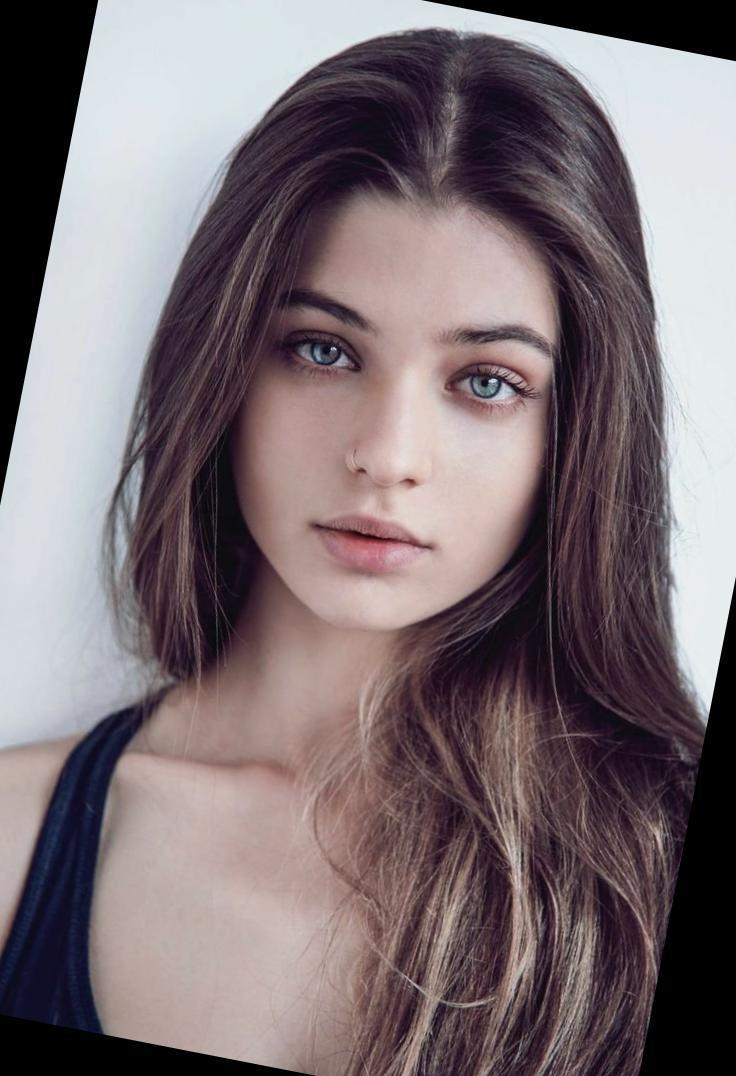Sober: (243, 213, 530, 610)
